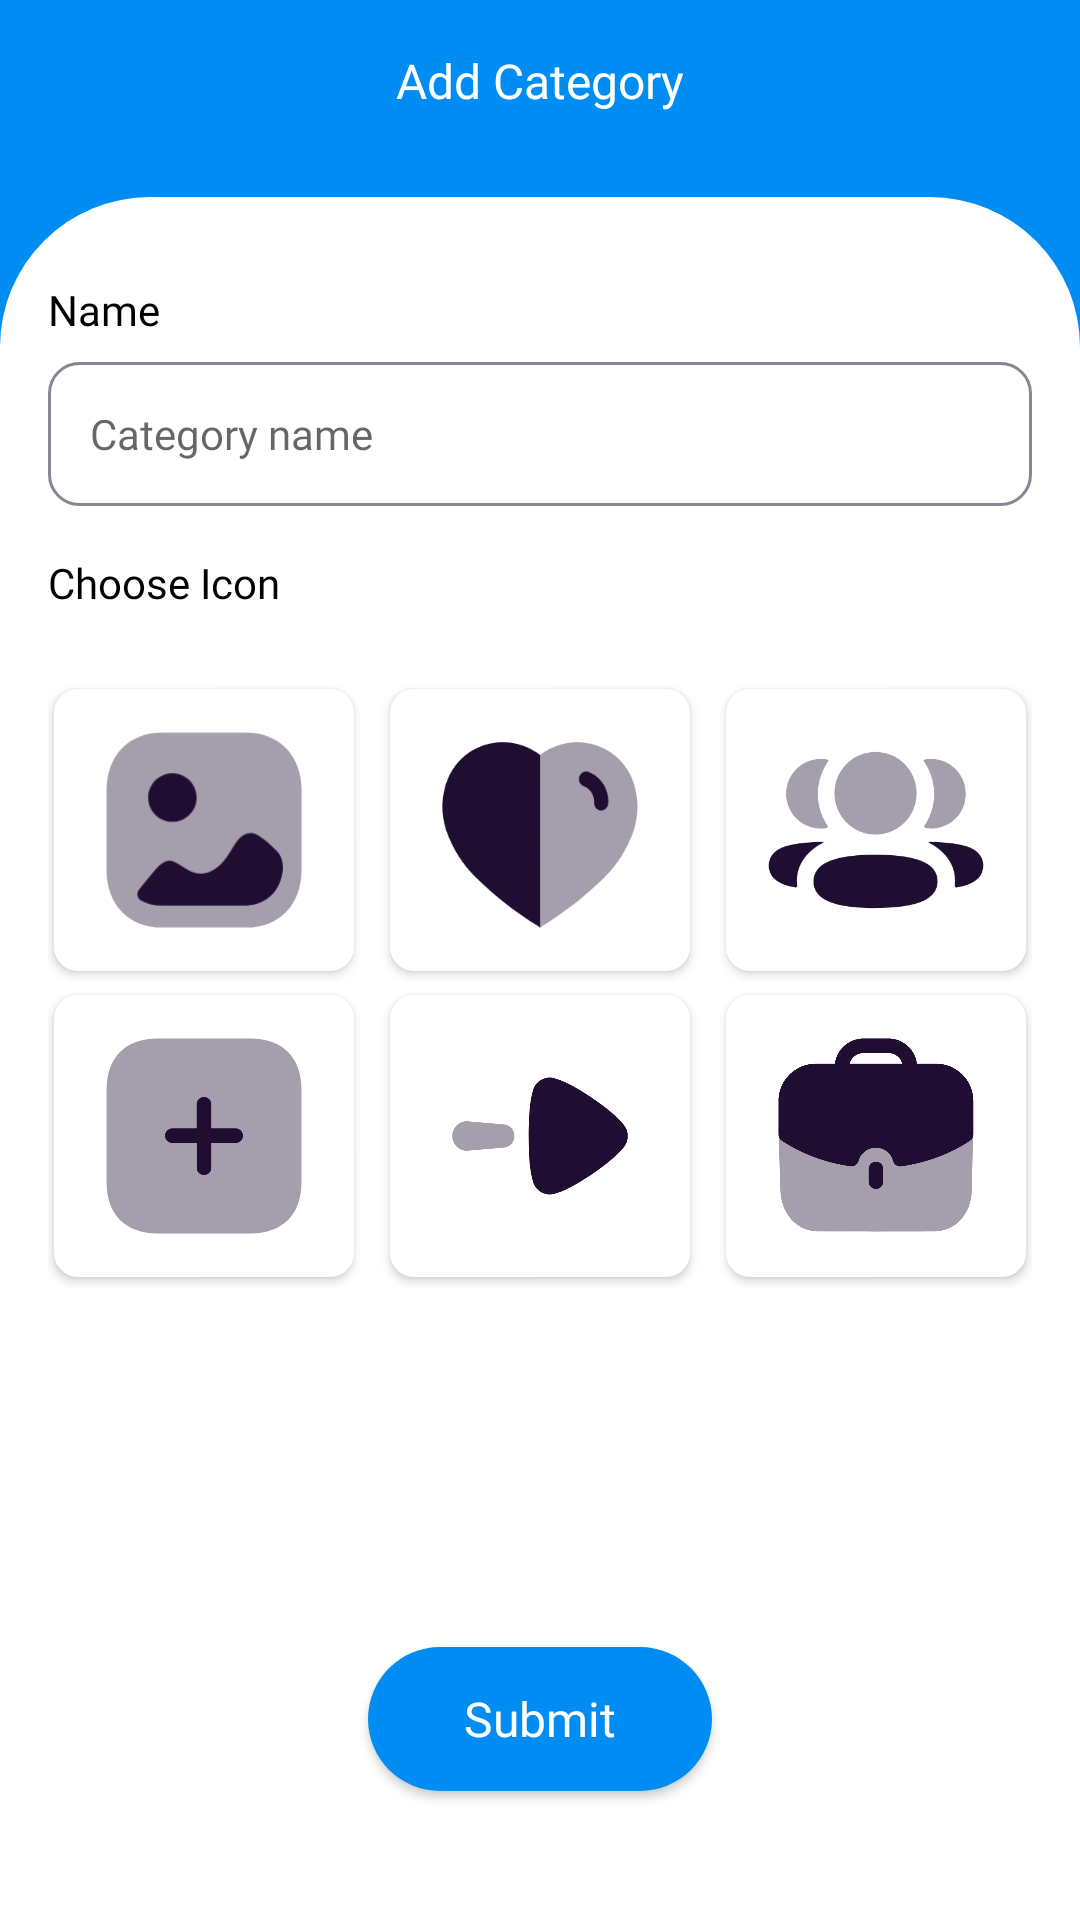

Icon click points for this 1080w x 1920h phone screenshot, format point (x, y):
3user: point (877, 838)
arrow right: point (540, 1177)
heart: point (540, 856)
plus: point (203, 1157)
work: point (877, 1144)
